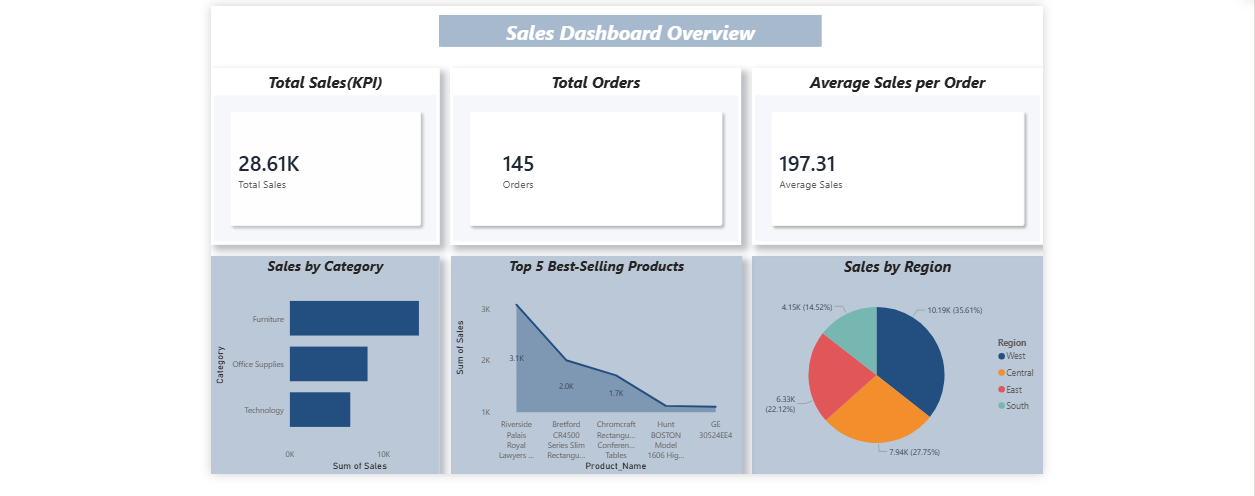

This screenshot's page, from the dashboard's own definition file:
{"tool":"powerbi","page":{"name":"Page 1","canvas":[1280,720],"ordinal":0},"visuals":[{"type":"cardVisual","title":"Total Sales(KPI)","fields":{"Data":["Sum(1 Query.total_sales)"]},"box":[0,96,352,272],"z":0},{"type":"cardVisual","title":"Total Orders","fields":{"Data":["Sum(2 Query.Number of orders)"]},"box":[368,96,448,272],"z":1000},{"type":"barChart","title":"Sales by Category","fields":{"Category":["3 Query.Category"],"Y":["Sum(3 Query.total_sales)"]},"box":[0,384,352,336],"z":2000},{"type":"pieChart","title":"Sales by Region","fields":{"Category":["4 Query.Region"],"Y":["Sum(4 Query.total_sales)"]},"box":[832,384,448,336],"z":3000},{"type":"stackedAreaChart","title":"Top 5 Best-Selling Products","fields":{"Category":["6 Query.Product_Name"],"Y":["Sum(6 Query.total_sales)"]},"box":[368.6,384.5,447.8,335.5],"z":4000},{"type":"textbox","title":"Sales Dashboard Overview","box":[351.4,14.4,589,49],"z":5000},{"type":"cardVisual","title":"Average Sales per Order","fields":{"Data":["Avg(6 Query.Avg_Sales)"]},"box":[832,96,448,272],"z":6000}]}

Visuals, with their boxes on the page's 1280x720 design canvas (x1, y1, x2, y2). These are canvas units, not pixel positions in the 1255x496 screenshot, which may show the page scaled, cropped or inside an application window:
"Total Sales(KPI)" cardVisual: <region>0, 96, 352, 368</region>
"Total Orders" cardVisual: <region>368, 96, 816, 368</region>
"Sales by Category" barChart: <region>0, 384, 352, 720</region>
"Sales by Region" pieChart: <region>832, 384, 1280, 720</region>
"Top 5 Best-Selling Products" stackedAreaChart: <region>369, 384, 816, 720</region>
"Sales Dashboard Overview" textbox: <region>351, 14, 940, 63</region>
"Average Sales per Order" cardVisual: <region>832, 96, 1280, 368</region>
